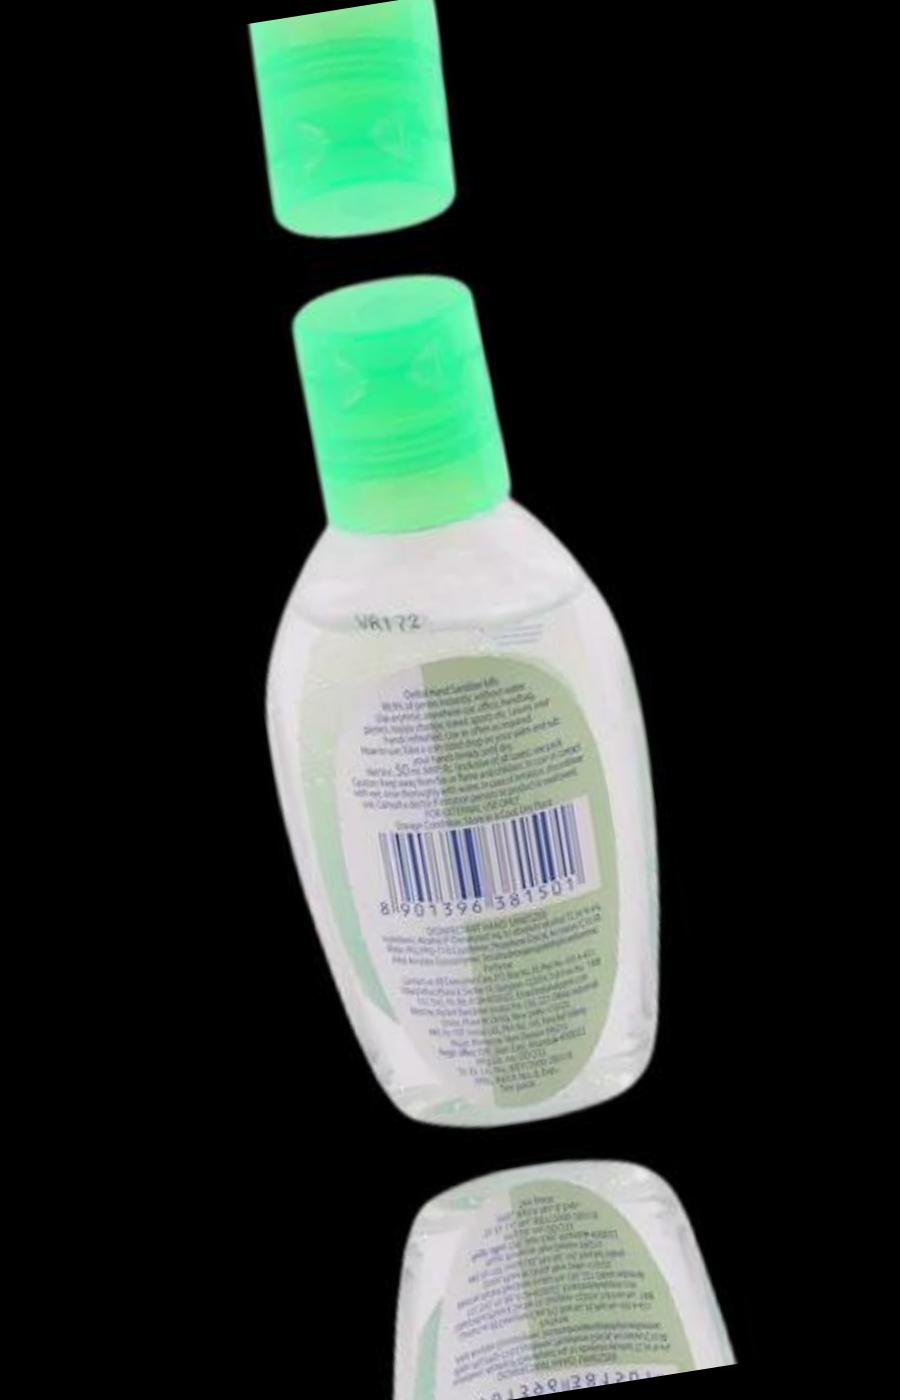Dettol Original Instant Hand Sanitizer 50 ml: (193, 250, 694, 1155), (332, 1135, 735, 1400), (150, 0, 552, 263)
